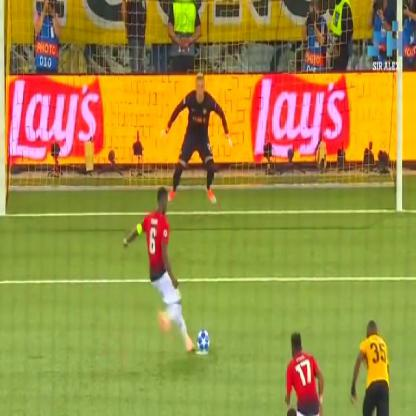penalty kick: (115, 53, 245, 386)
